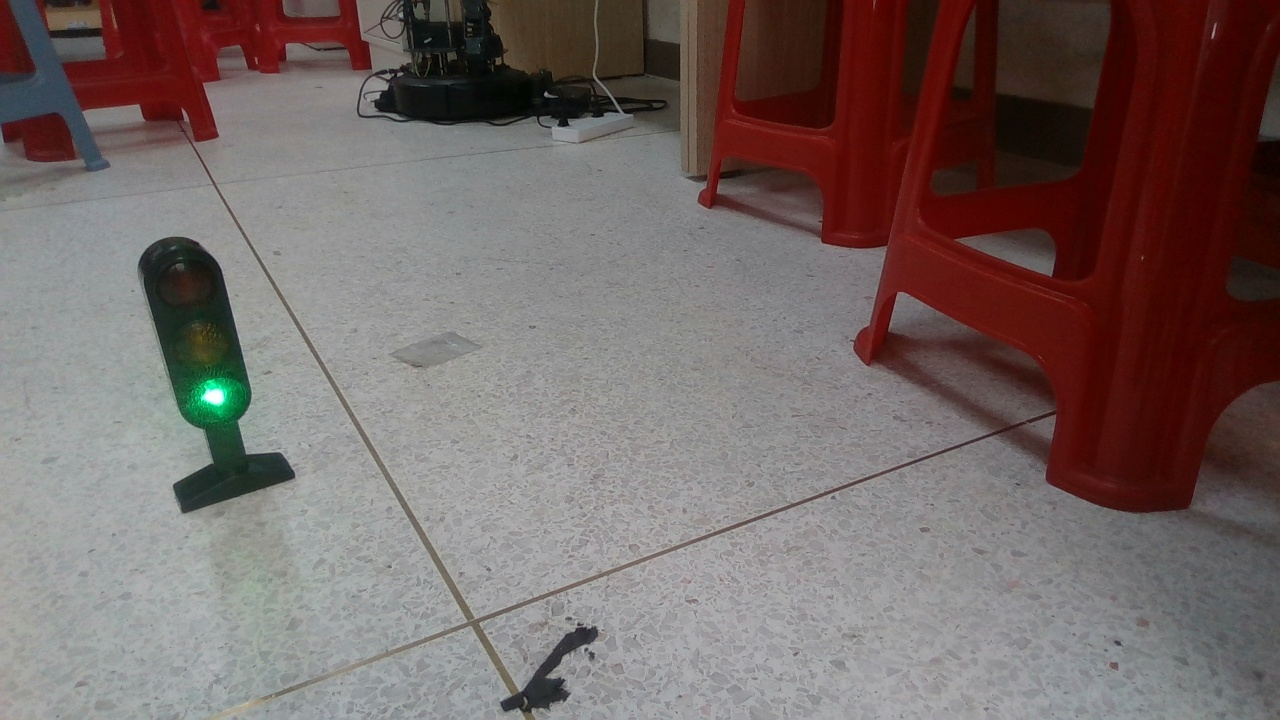Green traffic light: (121, 237, 303, 512)
